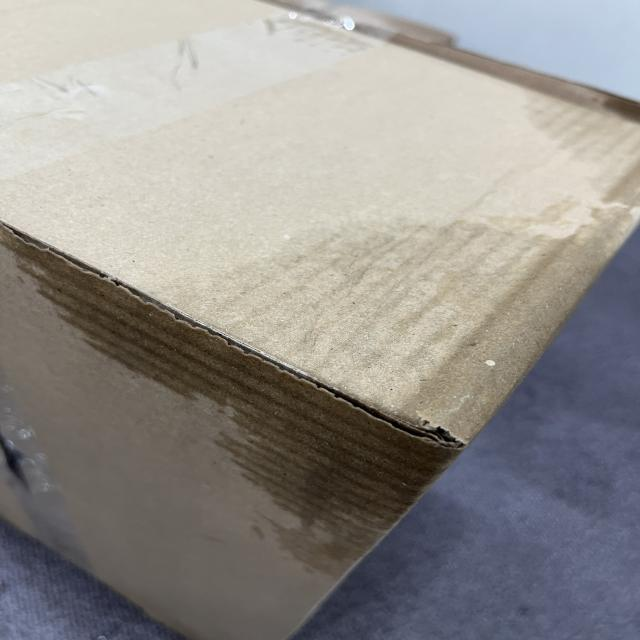wet: (175, 221, 597, 569)
